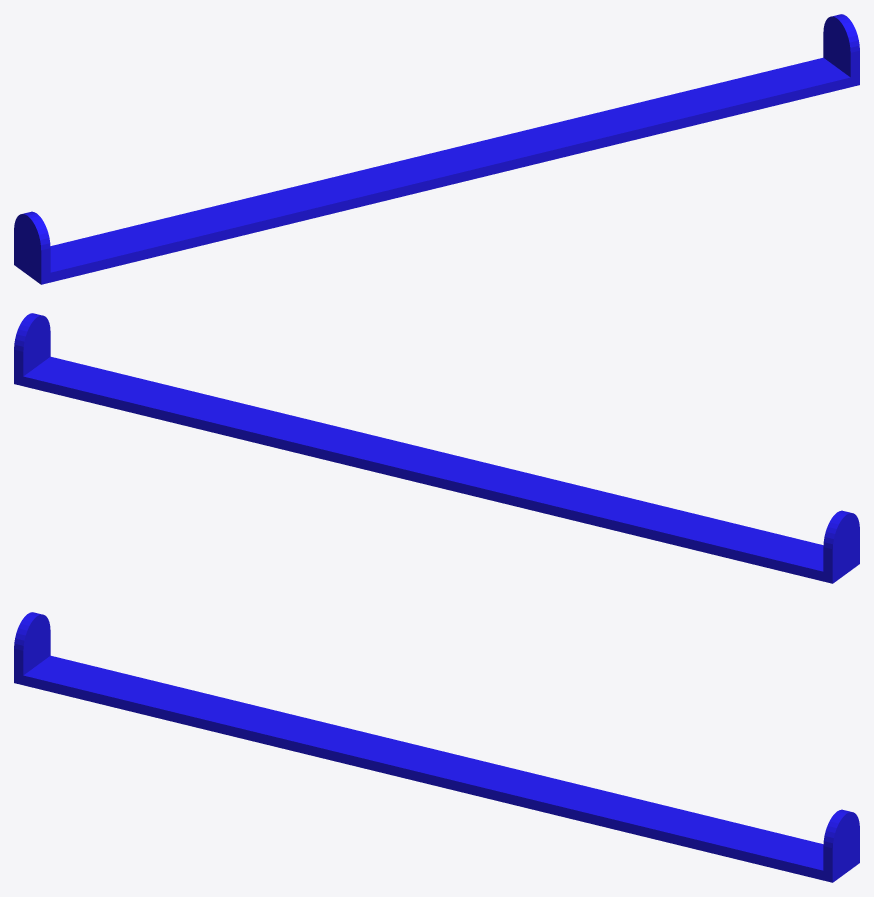
File: grid_switch.fbx
3 views of the same model, one above another, from view 1: azimuth 30°, elevation 25°; view 2: azimuth 150°, elevation 25°; view 3: azimuth 330°, elevation 25° (orthographic).
Visible parts, largest first — view 1: GridStopper; view 2: GridStopper; view 3: GridStopper.
Boxes of the visible parts, x1,y1,x2,y2 form: GridStopper: (14, 14, 859, 284); GridStopper: (14, 313, 859, 583); GridStopper: (14, 612, 859, 882).
Bounding box in the file's own units: 50 × 870 × 59.96.
